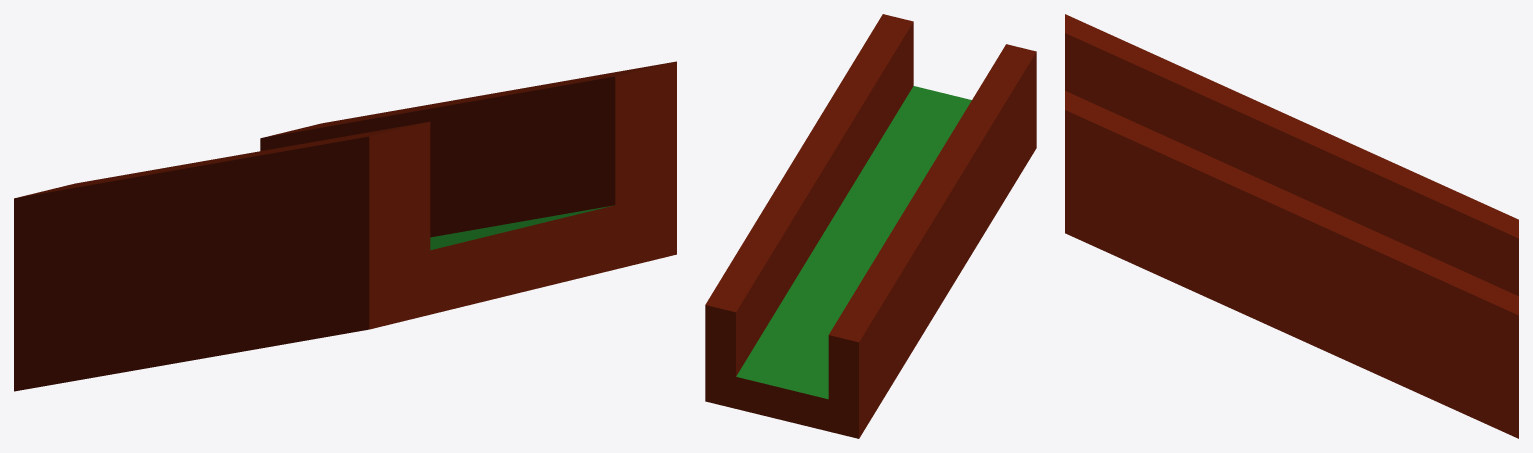
Rendered from ThinRamp.obj.
3 renders of one model, left to right at view 1: azimuth 30°, elevation 25°; view 2: azimuth 150°, elevation 25°; view 3: azimuth 270°, elevation 25°, orthographic. The views are drawn at different scales.
Visible parts, largest first — view 1: ThinRamp; view 2: ThinRamp; view 3: ThinRamp.
Boxes of the visible parts, <box> form: ThinRamp: <box>14,61,676,391</box>; ThinRamp: <box>705,14,1036,438</box>; ThinRamp: <box>1065,14,1518,438</box>.
Bounding box in the file's own units: 1 × 1.6 × 2.
